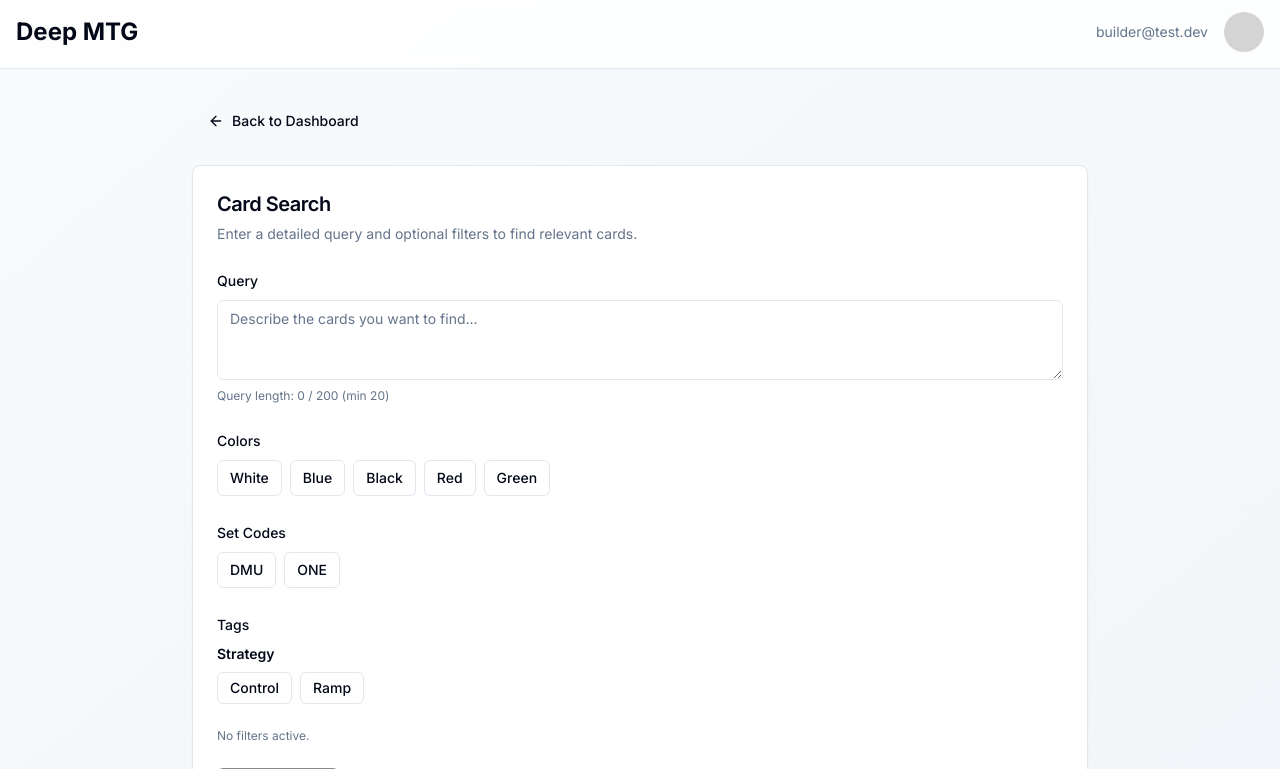
CardSearchPage › enforces query length constraints
The width and height of the screenshot is (1280, 769).
Type "short query" into the text box labelled "Query" at (640, 340), box [217,300,1063,380]
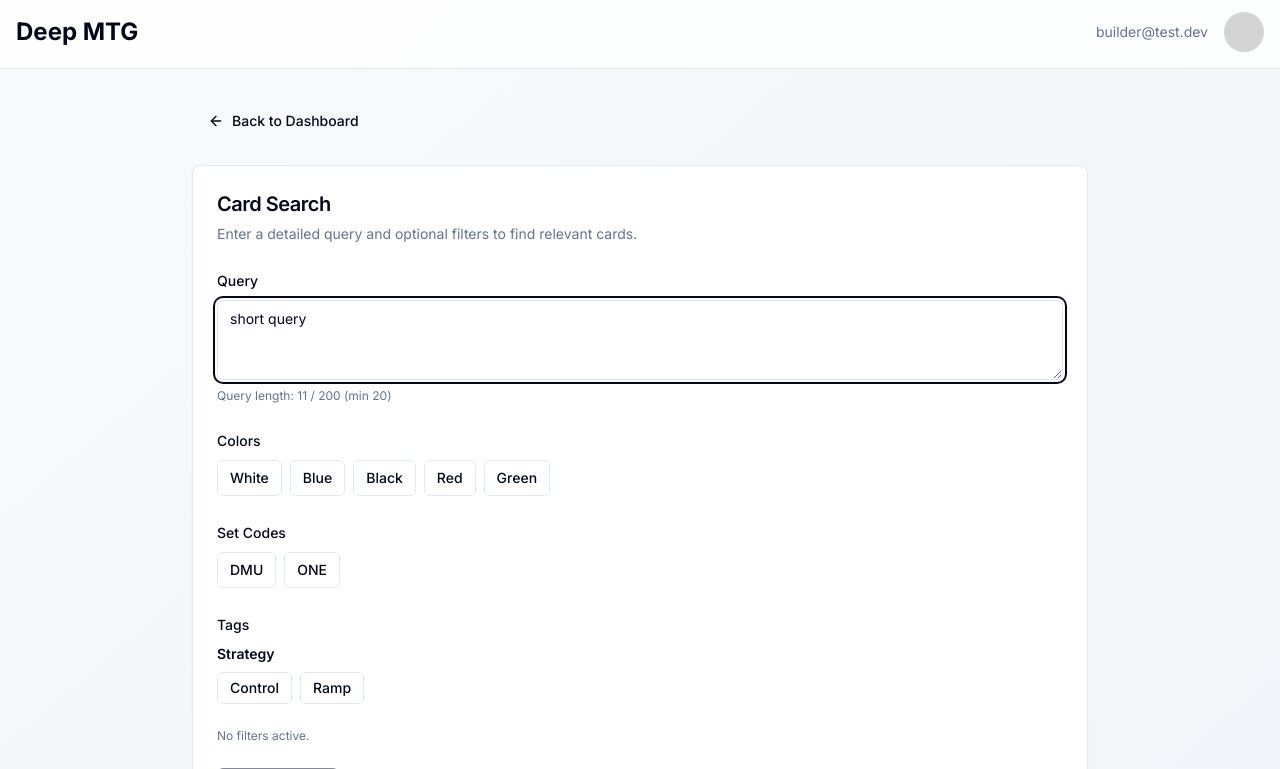
Replace the text in the text box labelled "Query" with "This query has enough words to pass validation" at (640, 340), box [217,300,1063,380]
(page scrolled)
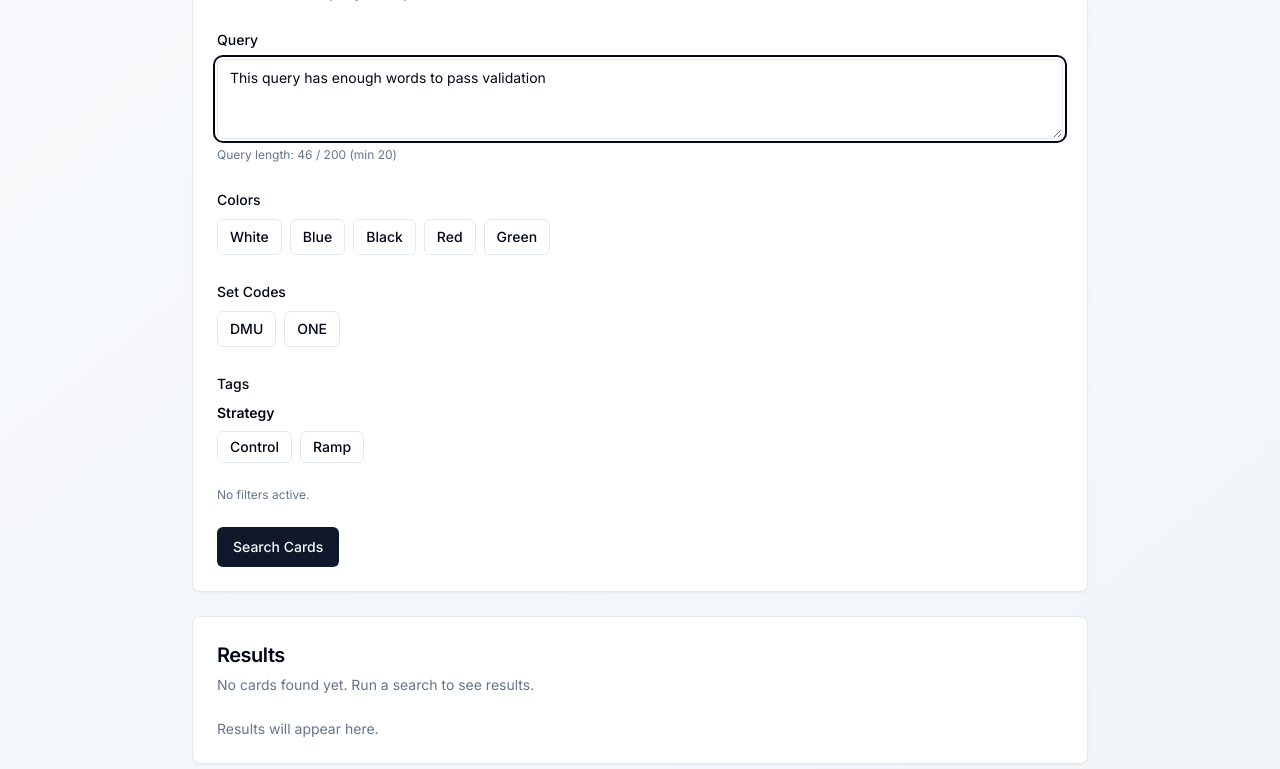
Check: the button "Search Cards" is enabled, box [217,527,339,567]
